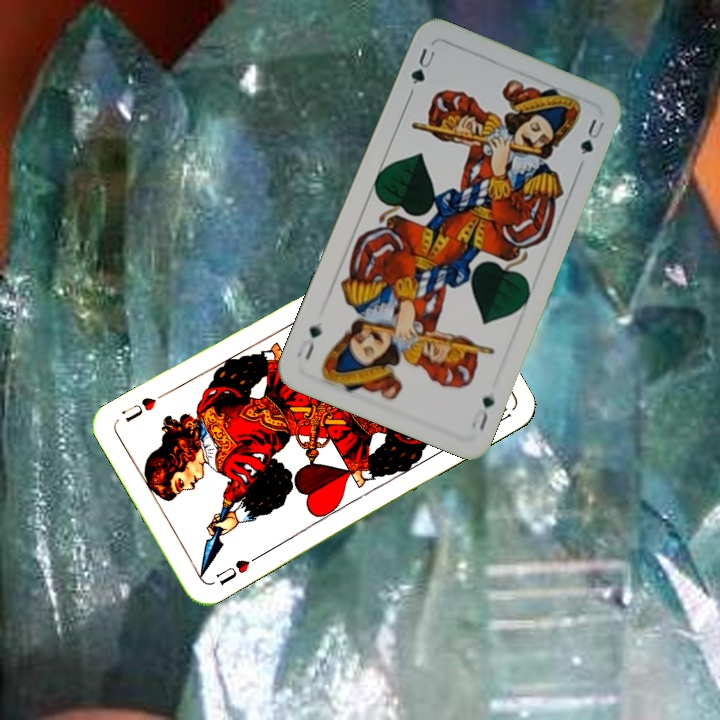GU: (406, 44, 438, 87), (469, 392, 497, 433)
HU: (211, 551, 262, 589)
